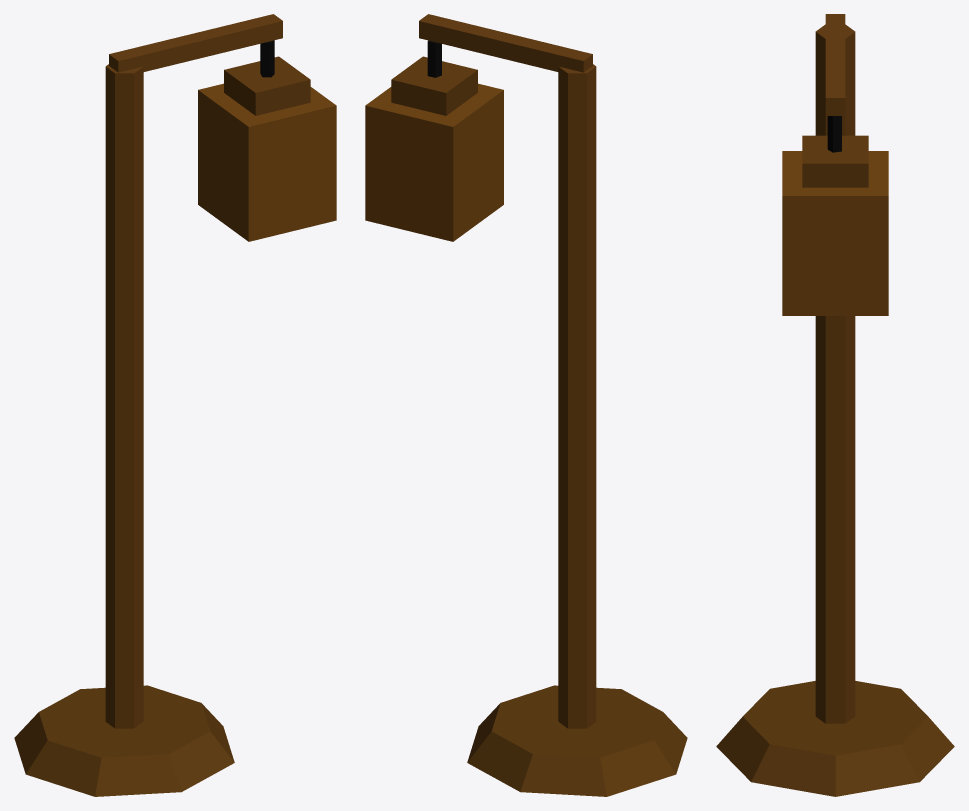
Rendered from lantern.obj.
3 renders of one model, left to right at view 1: azimuth 30°, elevation 25°; view 2: azimuth 150°, elevation 25°; view 3: azimuth 270°, elevation 25°, orthographic. The views are drawn at different scales.
Size of the model in its own units: 0.52 by 1.21 by 0.36.
